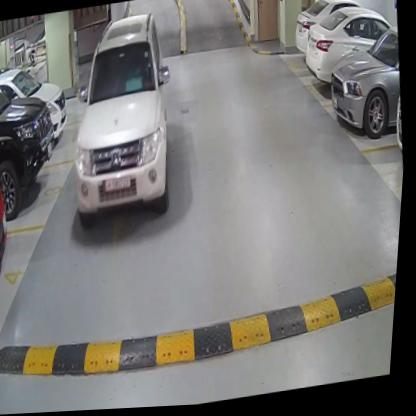np: (103, 175, 134, 194)
